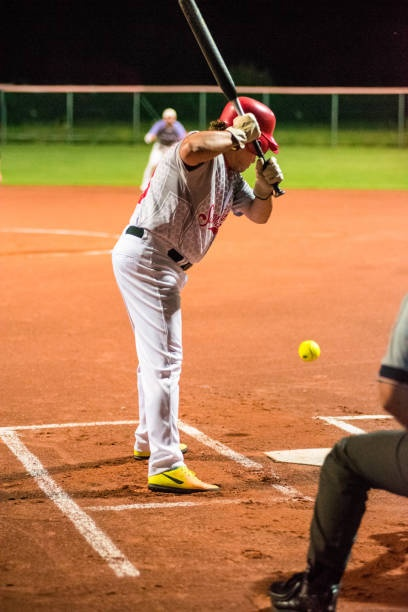bita: (177, 1, 291, 189)
